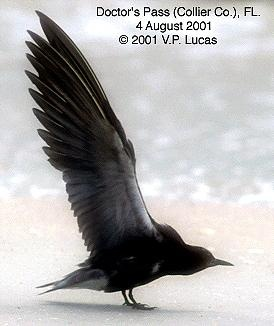bird: (20, 8, 239, 312)
